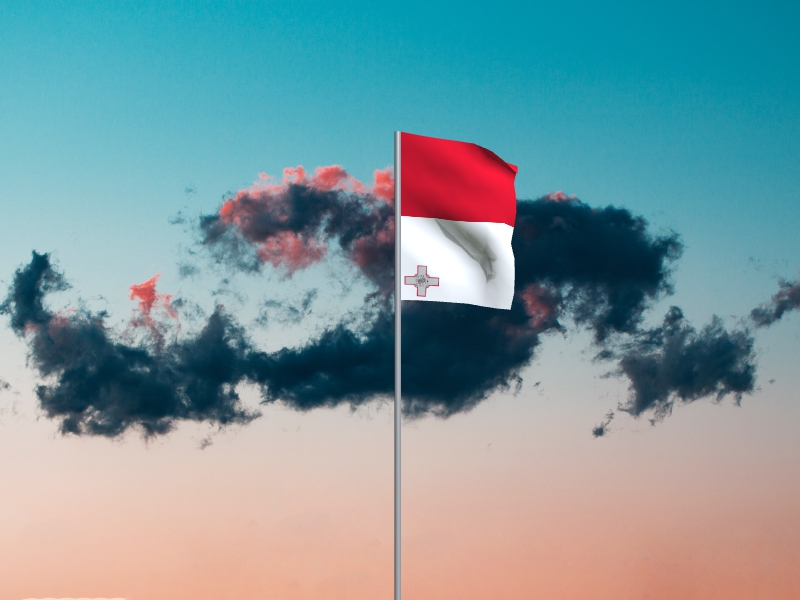mt: (401, 133, 519, 311)
